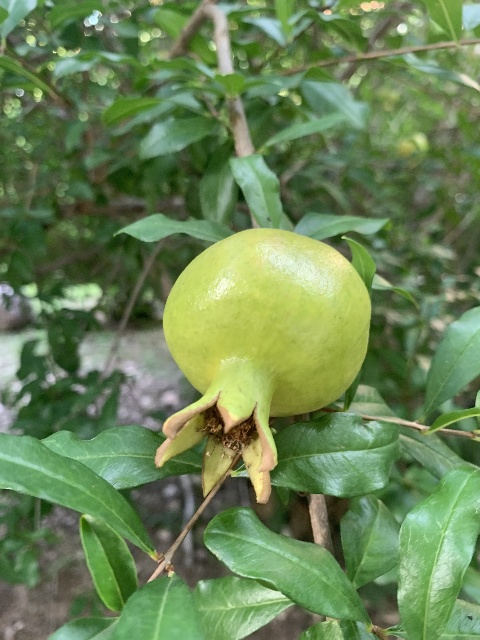mid-growth: (157, 227, 371, 506)
